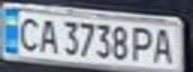3: (57, 18, 81, 56), (93, 21, 112, 60)
7: (75, 19, 96, 57)
8: (109, 22, 133, 61)
A: (148, 25, 181, 65), (33, 16, 60, 54)
C: (12, 15, 42, 52)
P: (127, 24, 160, 63)
